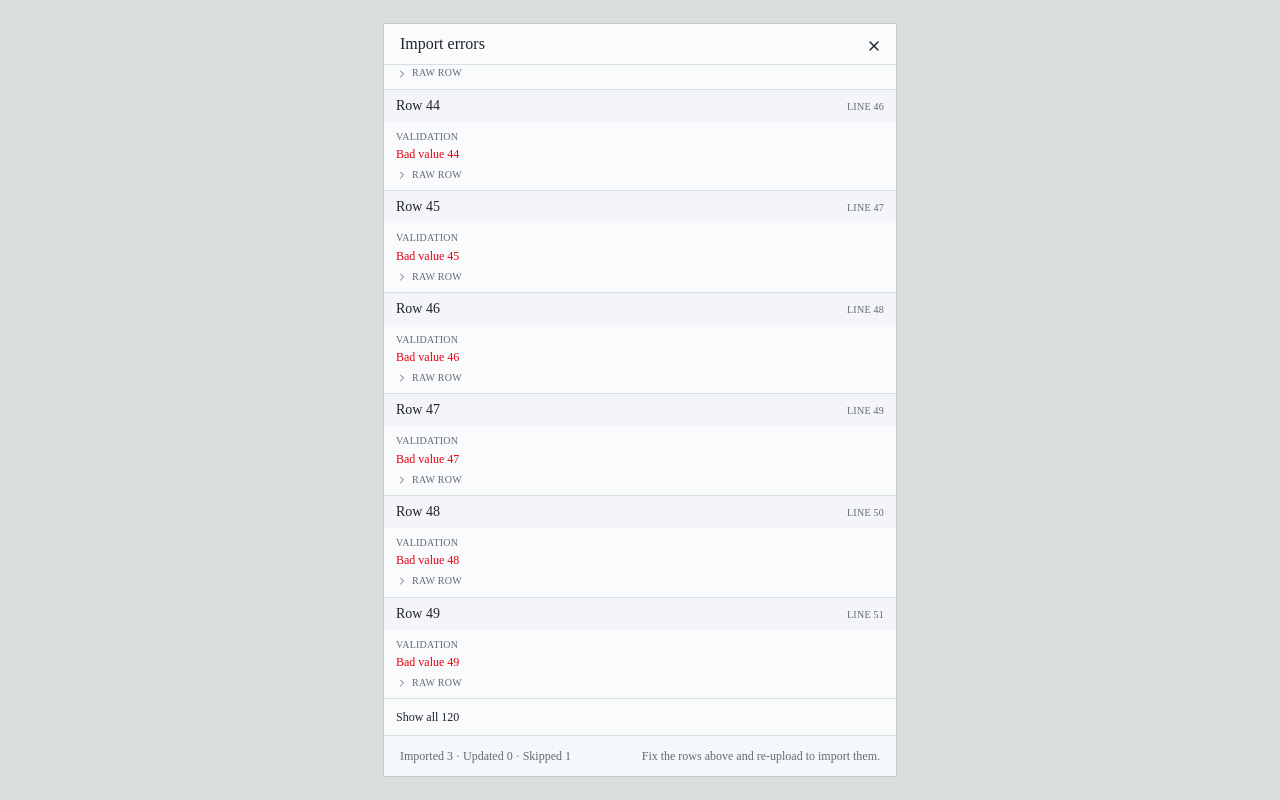
Test: ImportResultsDialog › lists the first 50 errors and reveals the rest behind Show all
This screenshot has width=1280, height=800.
(page scrolled)
What coordinates should you click on to do the following:
click the button "Show all 120"
I would click on:
 (428, 717)
Its box is [396,709,459,725].
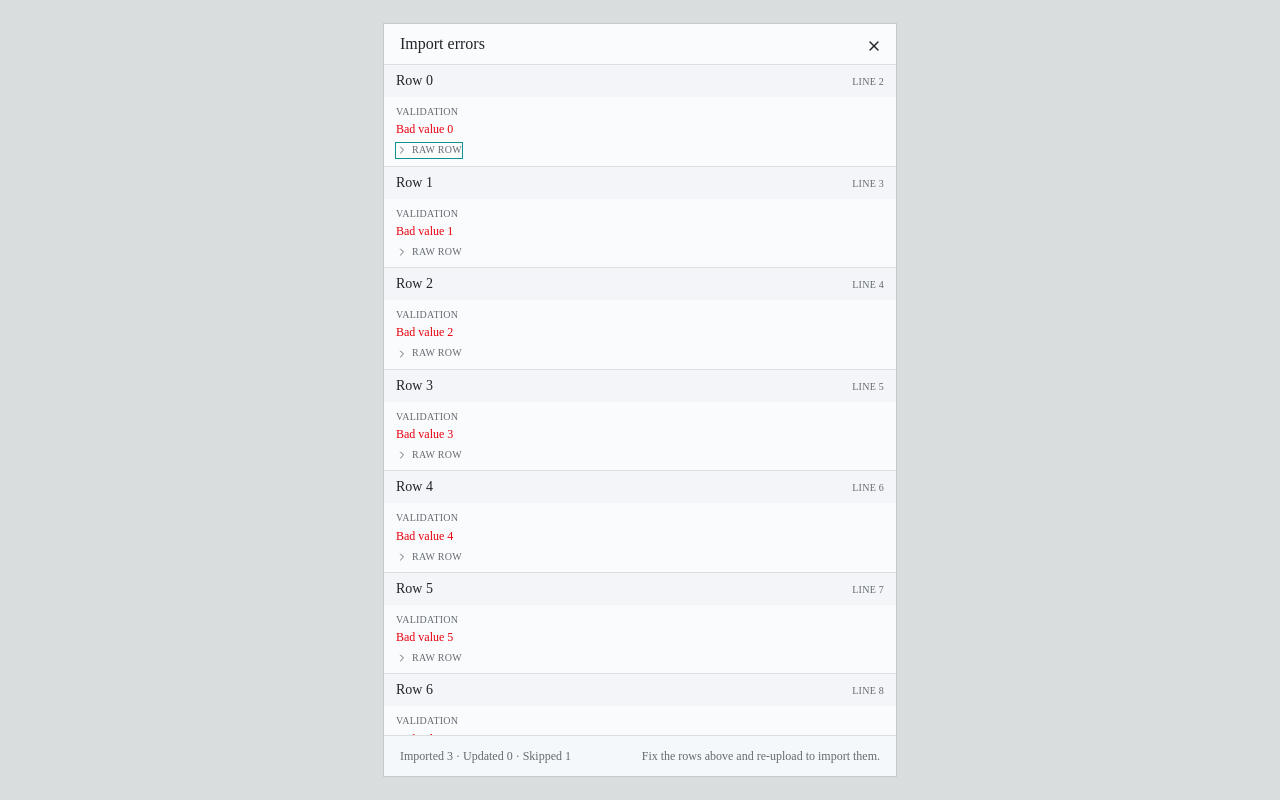
Check: the text "Bad value 0" is shown 120 times
